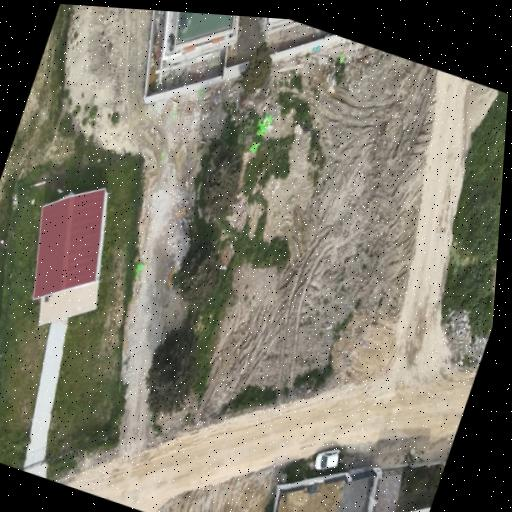car: (314, 449, 339, 470)
